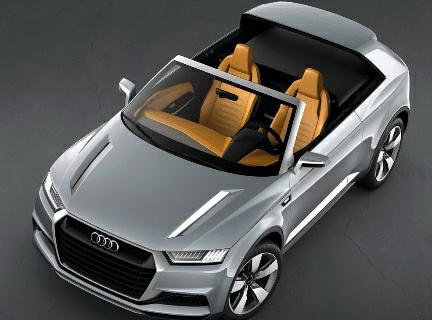奥迪-CrosslaneCoupe: (25, 1, 415, 320)
